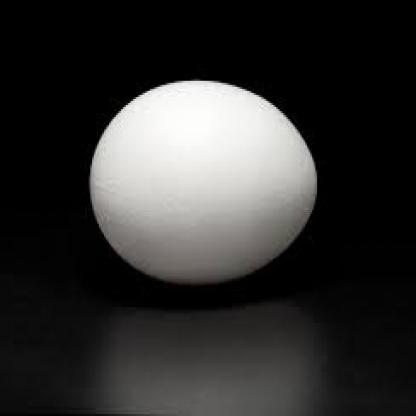egg: (90, 79, 316, 286)
